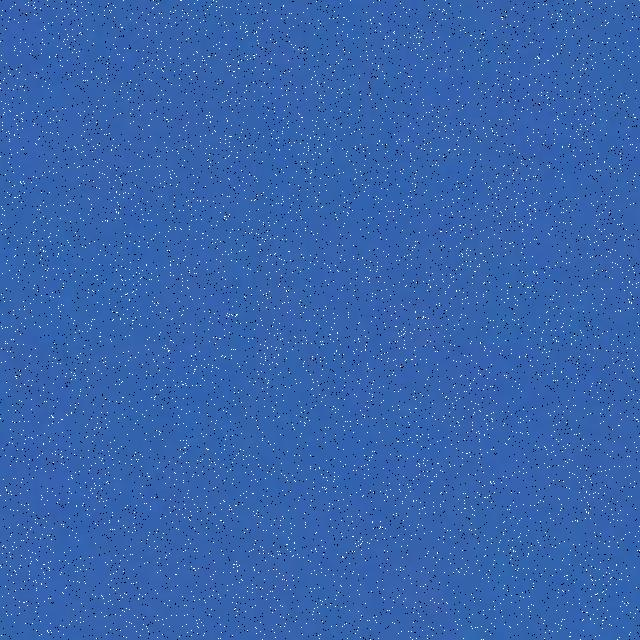drone: (256, 345, 640, 640)
